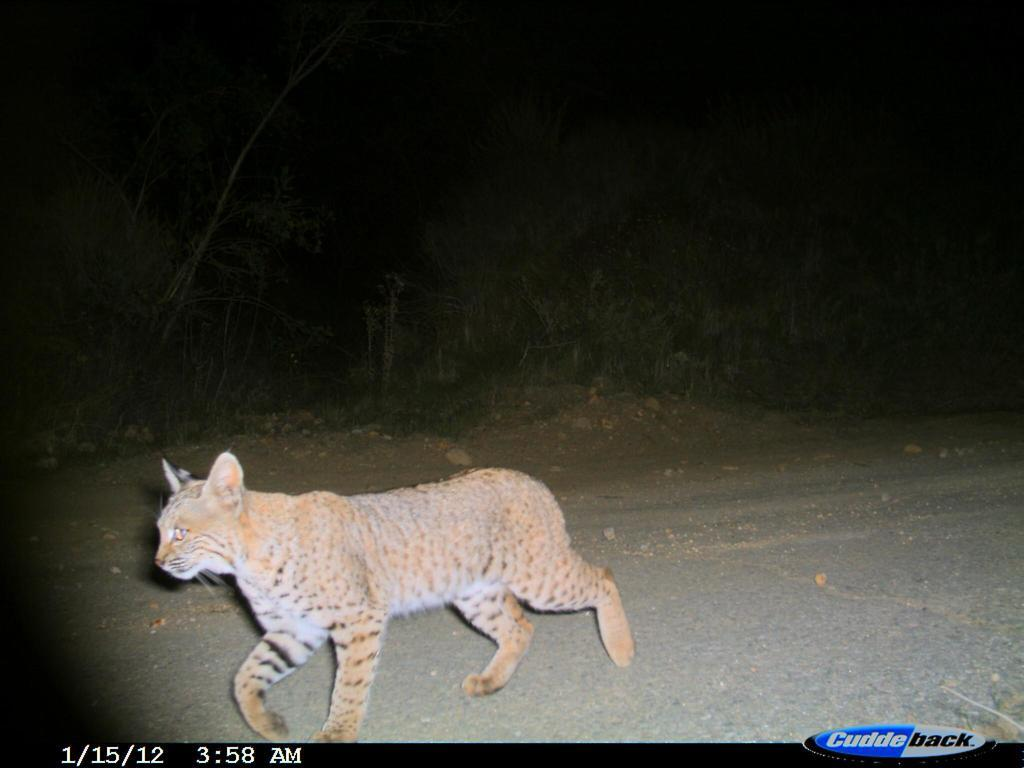bobcat: (155, 452, 642, 753)
